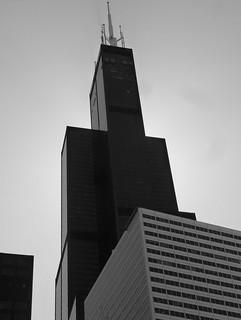building: (56, 39, 196, 320)
